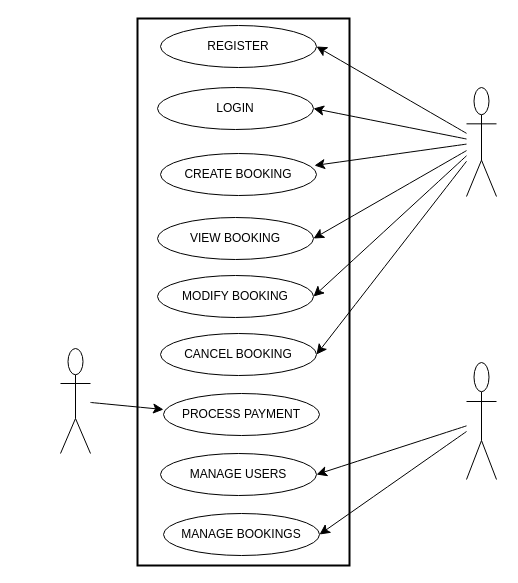
This 518x583 diagram has some shape labels left out. Here are the shapes that lost their labels. From the top down, the centre of each, then its label:
the point at 481,141: USER
the point at 75,401: PAYMENT GATEWAY
the point at 481,421: ADMIN
